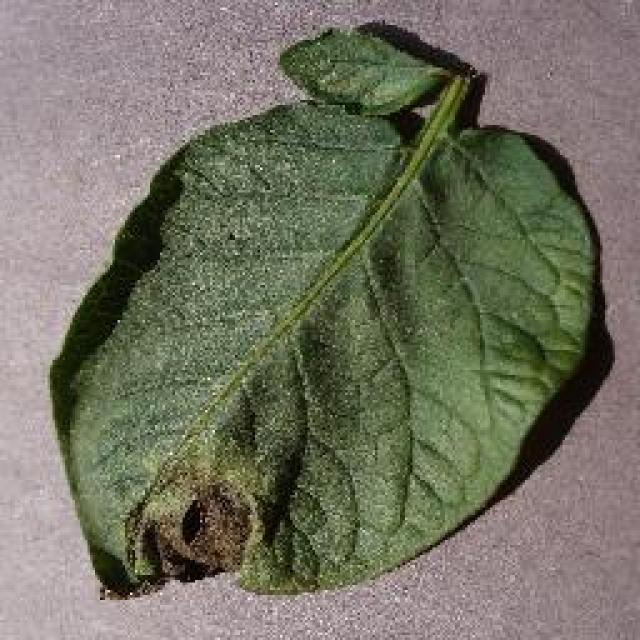Potato___Late_blight: (44, 21, 599, 604)
